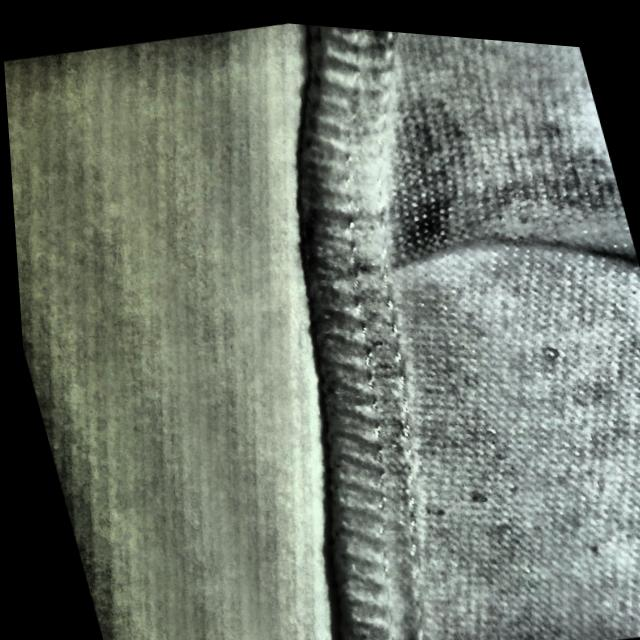seam: (280, 126, 613, 341)
